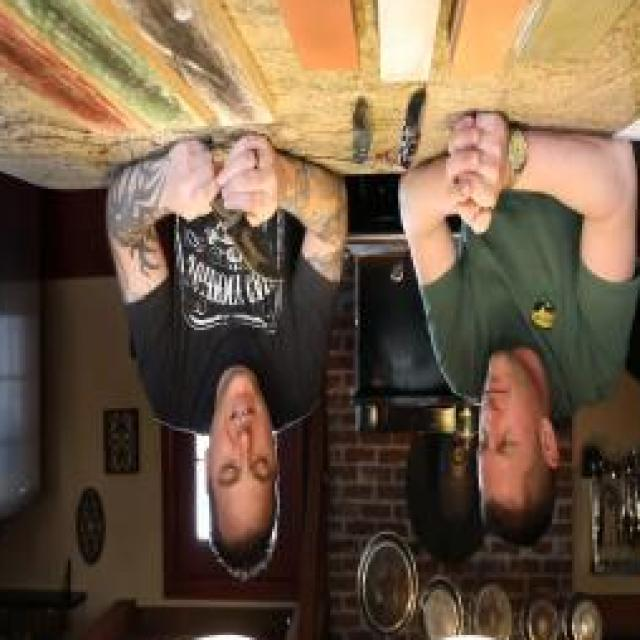knife: (189, 161, 290, 295)
